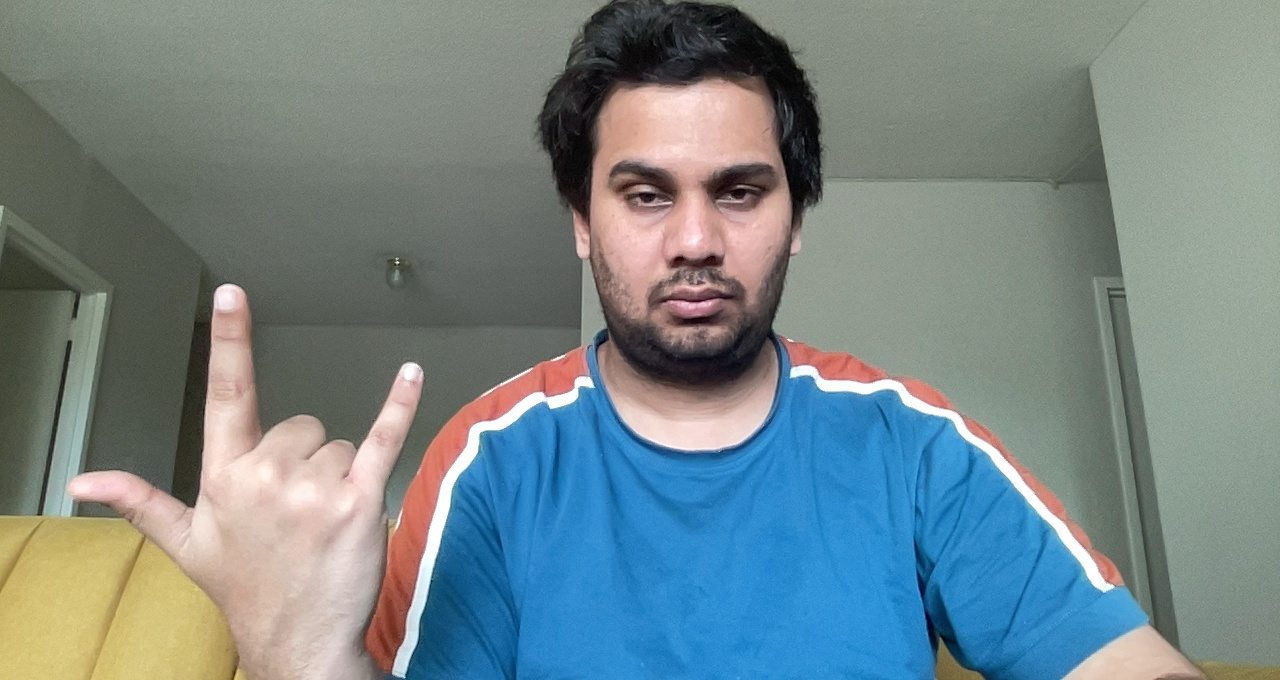rockon sign: (59, 270, 424, 646)
